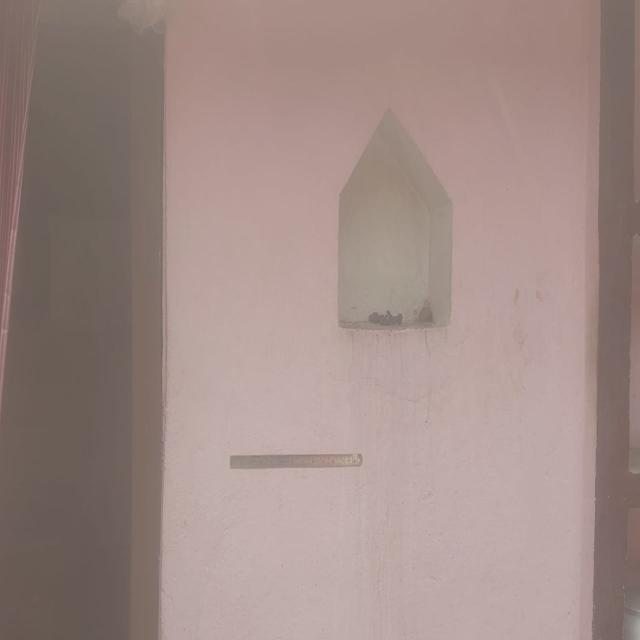scale: (228, 452, 363, 470)
